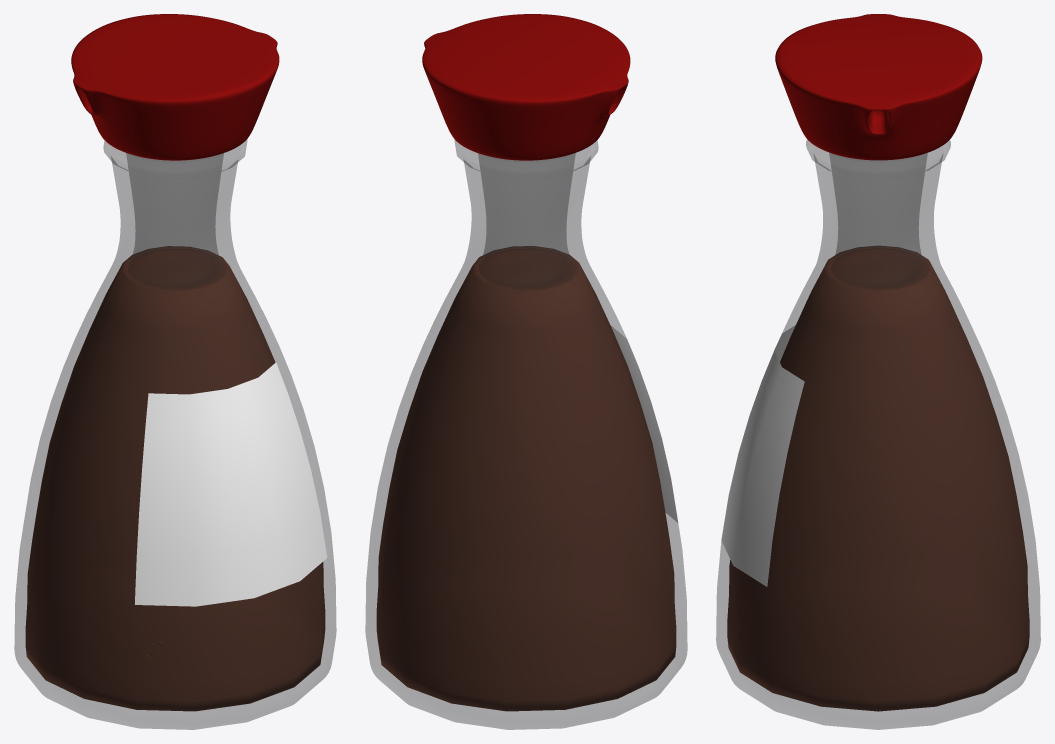
File: しょうゆ.fbx
3 views of the same model, side by side, from view 1: azimuth 30°, elevation 25°; view 2: azimuth 150°, elevation 25°; view 3: azimuth 270°, elevation 25° (orthographic).
Parts seen in each view (by area): view 1: glass.001, syouyu, Lavel, CAP; view 2: glass.001, syouyu, CAP, Lavel; view 3: glass.001, syouyu, CAP, Lavel.
Boxes of the visible parts, box(x1,y1,x2,y2) form: glass.001: box(14, 139, 336, 729); syouyu: box(25, 246, 325, 711); Lavel: box(134, 362, 327, 606); CAP: box(71, 14, 279, 160); glass.001: box(365, 139, 687, 729); syouyu: box(376, 246, 676, 711); CAP: box(422, 14, 630, 160); Lavel: box(610, 325, 678, 522); glass.001: box(716, 139, 1040, 729); syouyu: box(727, 246, 1029, 711); CAP: box(775, 14, 982, 160); Lavel: box(721, 325, 804, 586).
Bounding box in the file's own units: 6.95 × 14.74 × 6.95.
